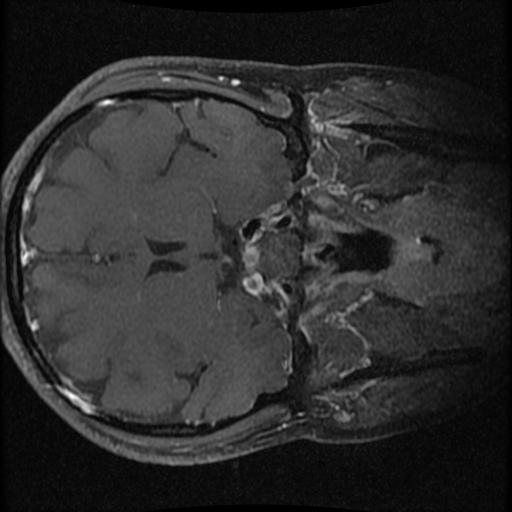pituitary tumour: (243, 240, 259, 280)
